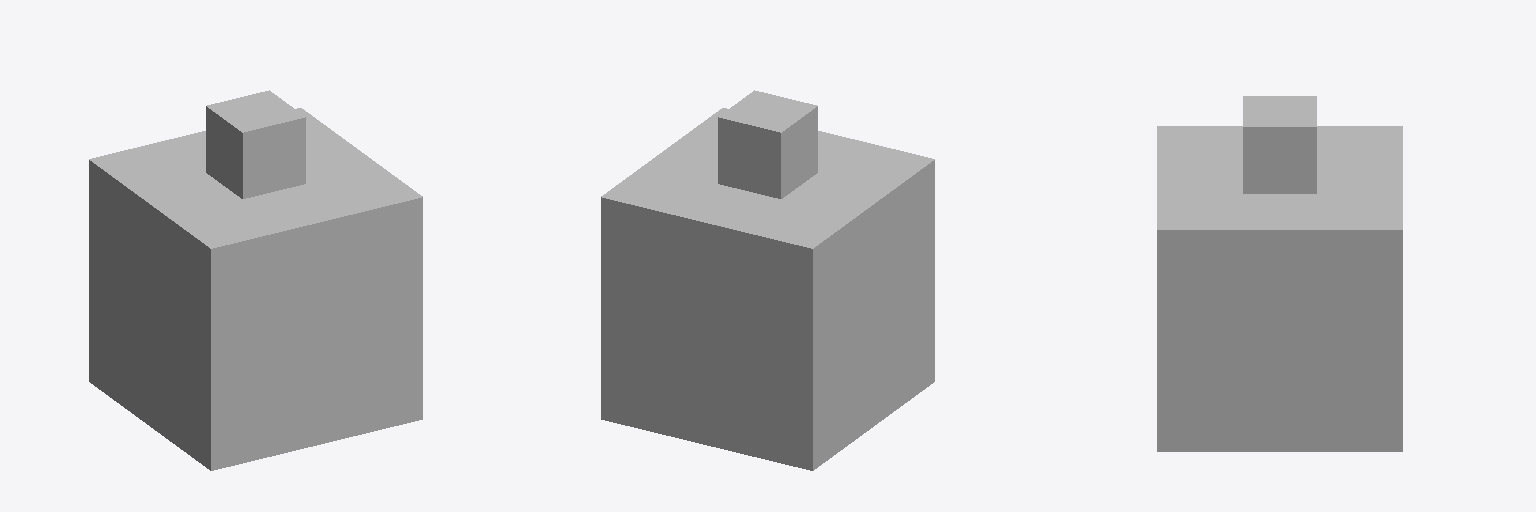
Rendered from cube_with_a_hat.obj.
The picture shows the model from 3 angles: view 1: azimuth 30°, elevation 25°; view 2: azimuth 150°, elevation 25°; view 3: azimuth 270°, elevation 25°; orthographic projection.
Parts seen in each view (by area): view 1: CubeHat; view 2: CubeHat; view 3: CubeHat.
Boxes of the visible parts, box(x1,y1,x2,y2) form: CubeHat: box(89, 90, 422, 470); CubeHat: box(601, 90, 934, 470); CubeHat: box(1157, 96, 1402, 451).
Bounding box in the file's own units: 2 × 2.6 × 2.